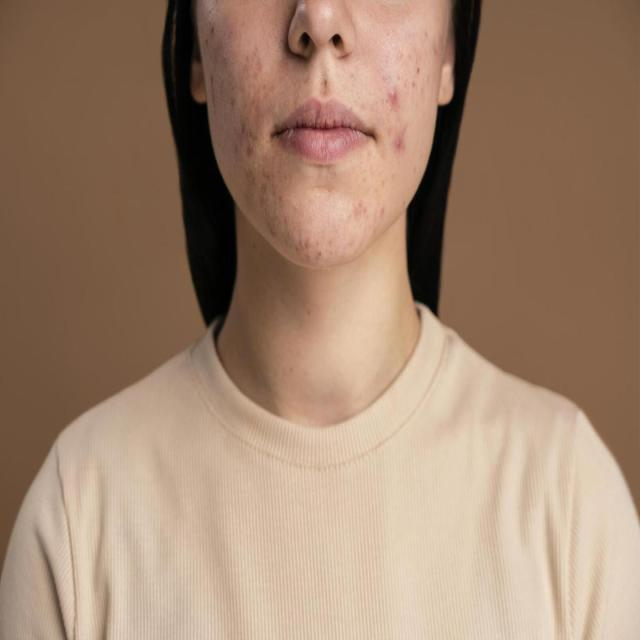Acne: (199, 0, 286, 250), (379, 19, 447, 165), (288, 192, 397, 268)
